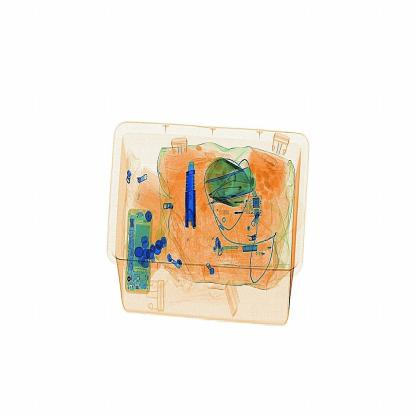pliers: (169, 152, 206, 235)
